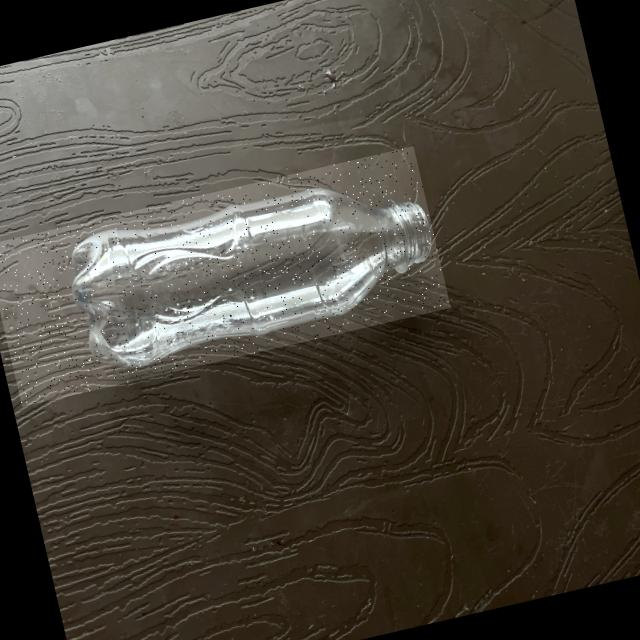PET_ClearBottle: (0, 145, 449, 406)
